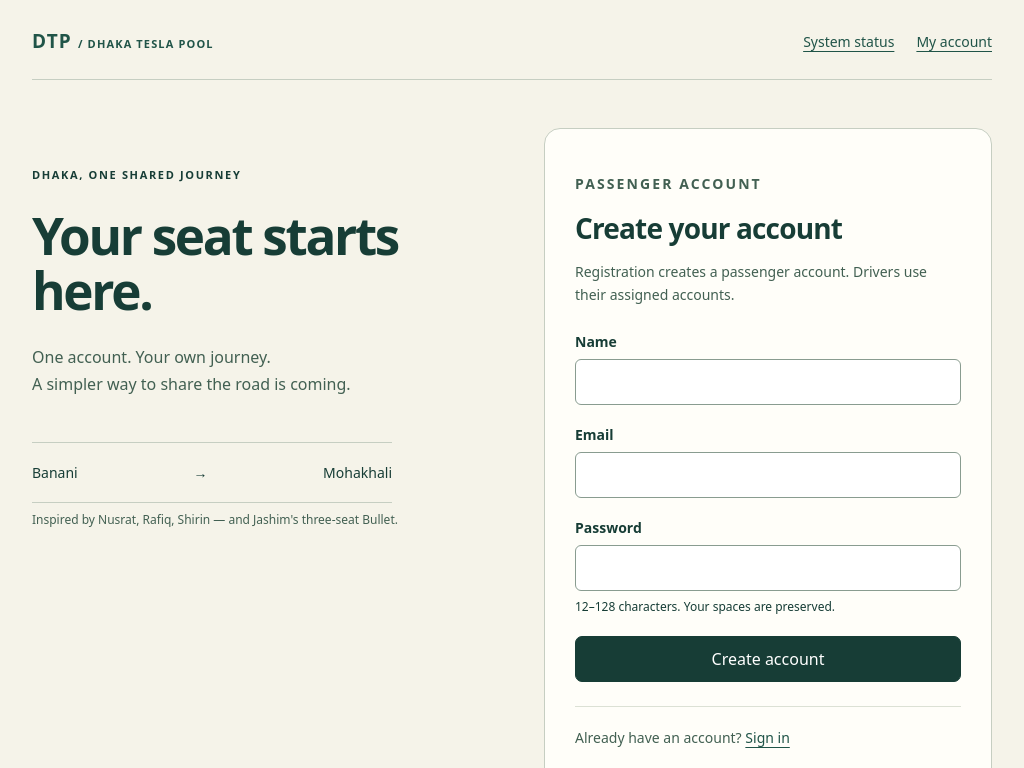
Test: authentication UI › registers only name/email/password and opens the passenger page
Type "New Passenger" into the field labelled "Name".
click(768, 382); type("New Passenger")  # box [575,359,961,405]
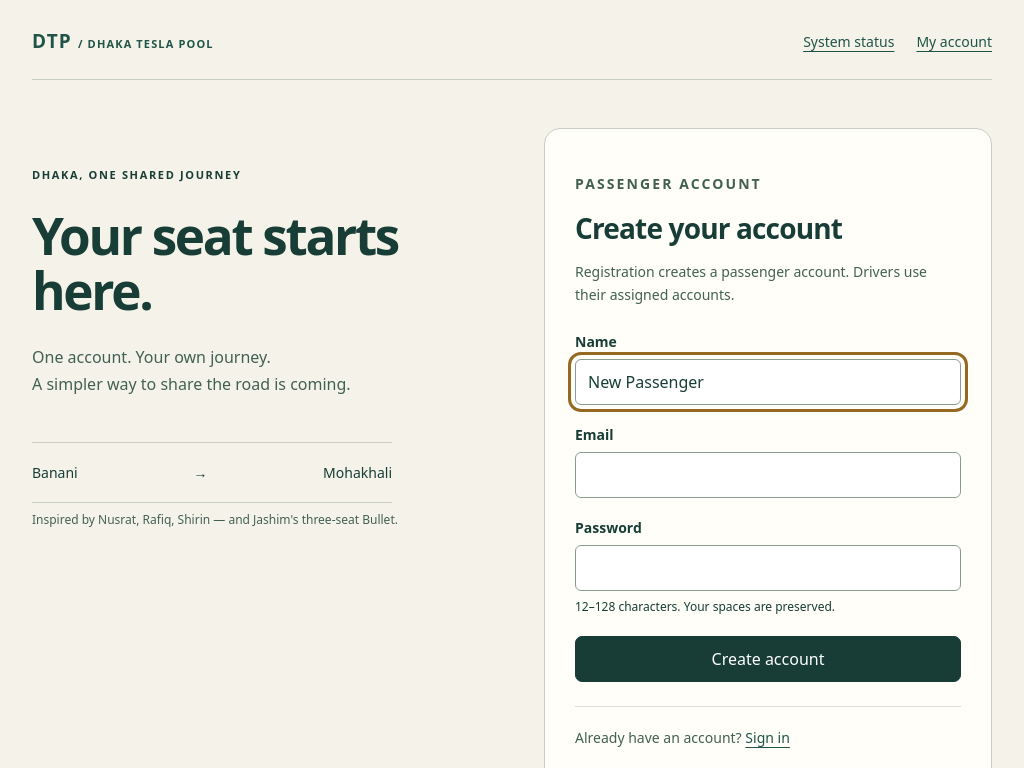
Type "new@test.invalid" into the field labelled "Email".
click(768, 475); type("new@test.invalid")  # box [575,452,961,498]
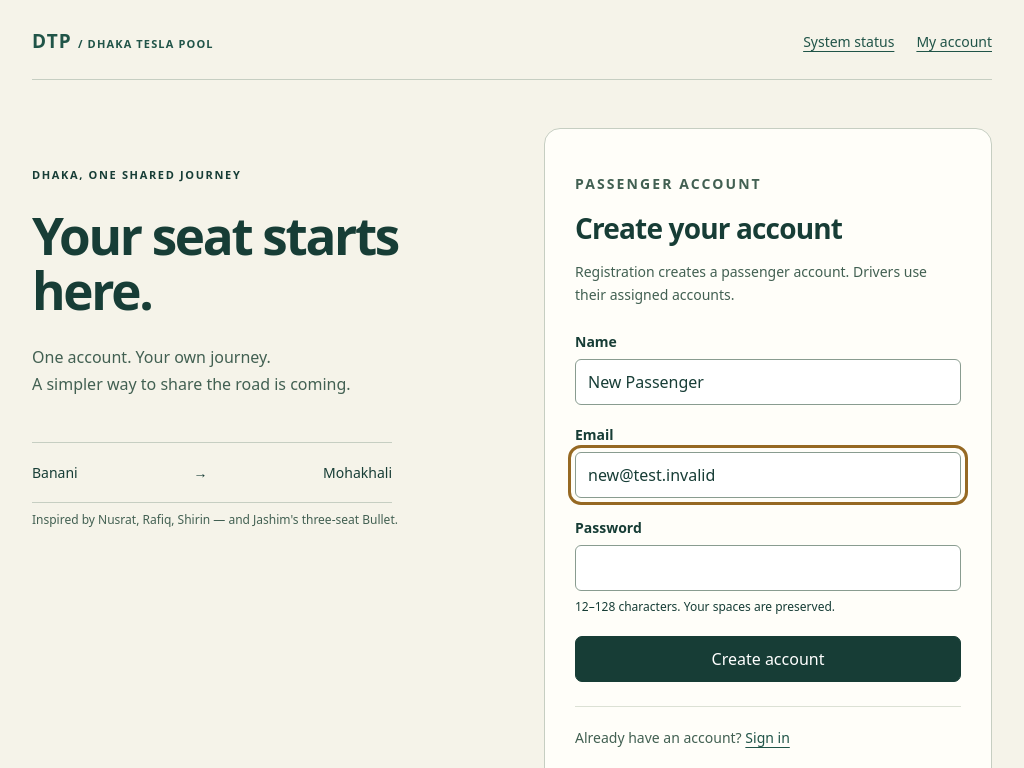
Type "  Exact password  " into the password field labelled "Password".
click(768, 568); type("  Exact password  ")  # box [575,545,961,591]
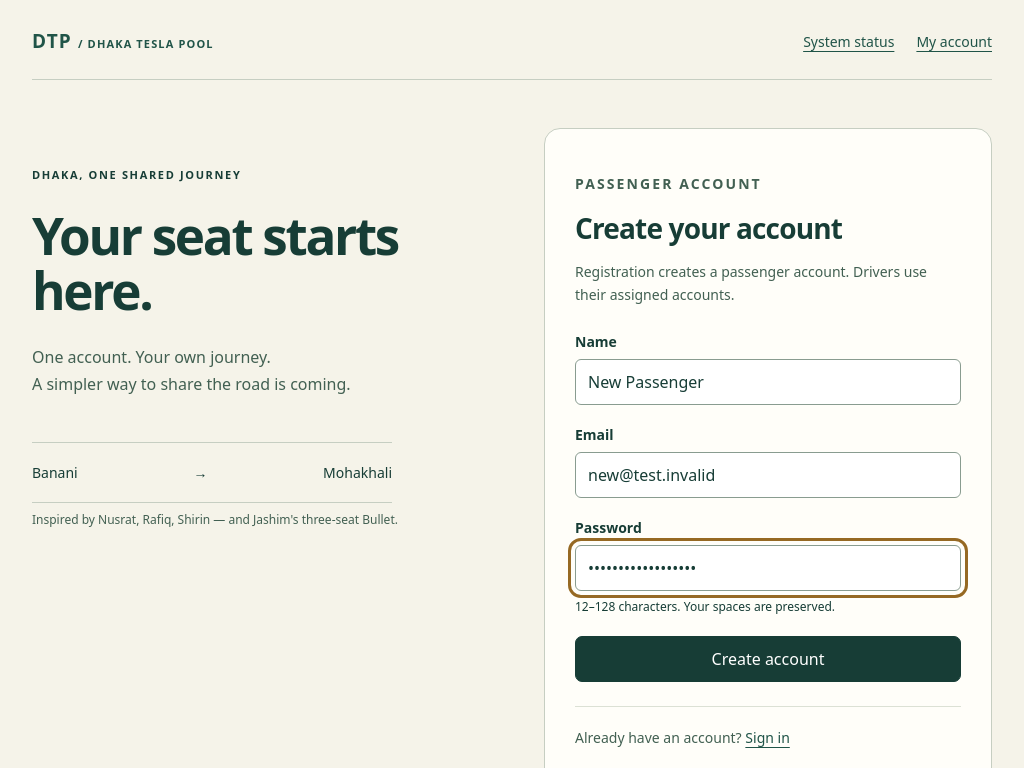
Click the button "Create account".
click(768, 659)  # box [575,636,961,682]
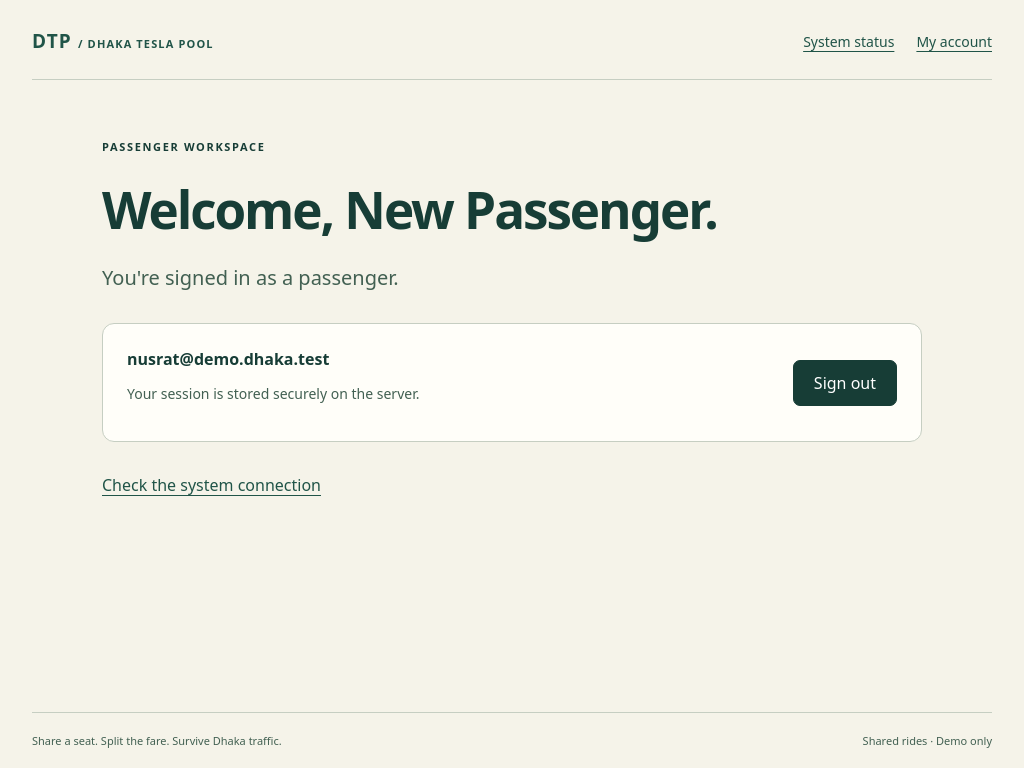
Expected: the heading "Welcome, New Passenger." is shown, [102,174,717,244]
